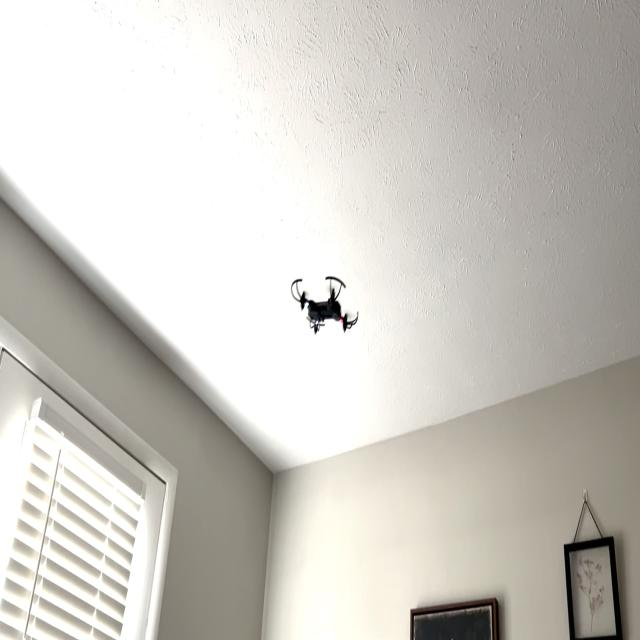drone: (285, 249, 366, 350)
